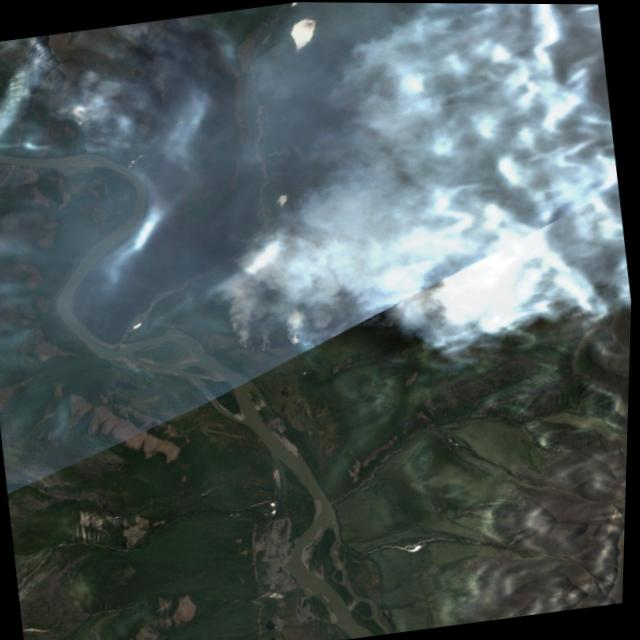fire: (208, 232, 518, 370), (51, 92, 123, 165)
